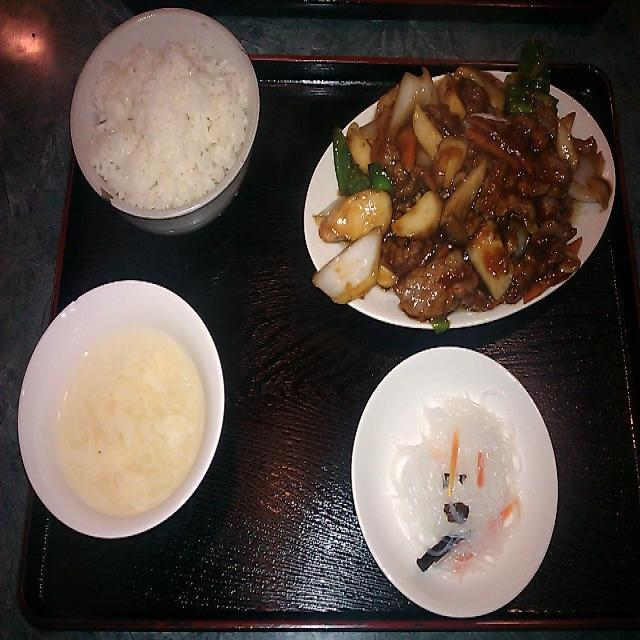Rice: (82, 19, 250, 202)
